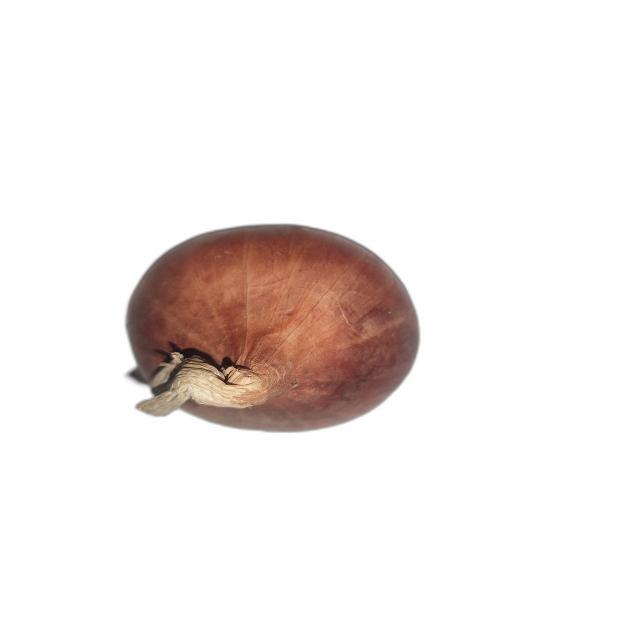onion: (124, 224, 422, 433)
